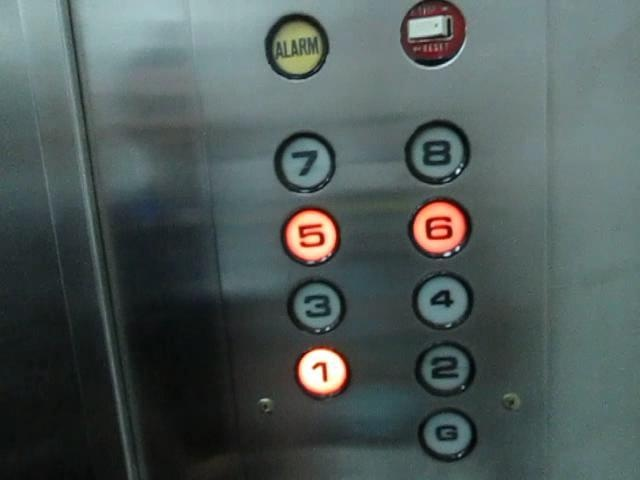1: (294, 345, 353, 401)
2: (413, 338, 476, 396)
3: (286, 278, 346, 335)
4: (411, 269, 475, 330)
5: (280, 205, 340, 265)
6: (405, 195, 472, 260)
7: (274, 130, 335, 194)
8: (404, 118, 471, 187)
G: (417, 407, 478, 461)
bt_switch: (399, 1, 466, 69)
text: (263, 11, 330, 79)
